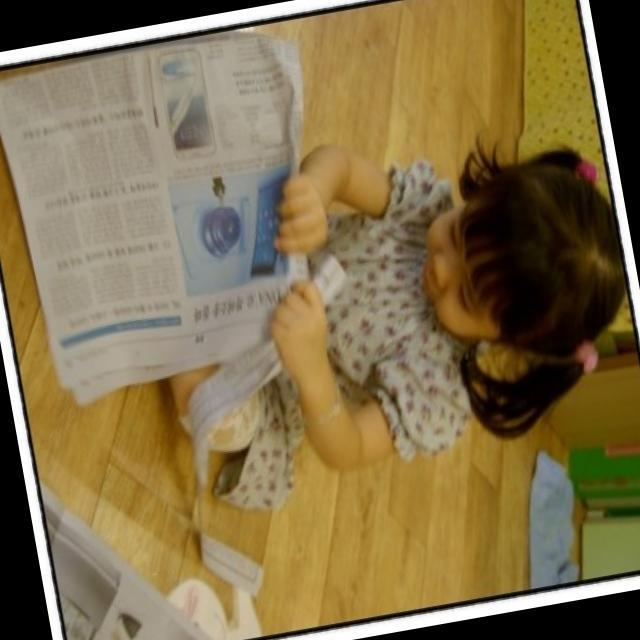reuseable_paper: (0, 28, 352, 410)
